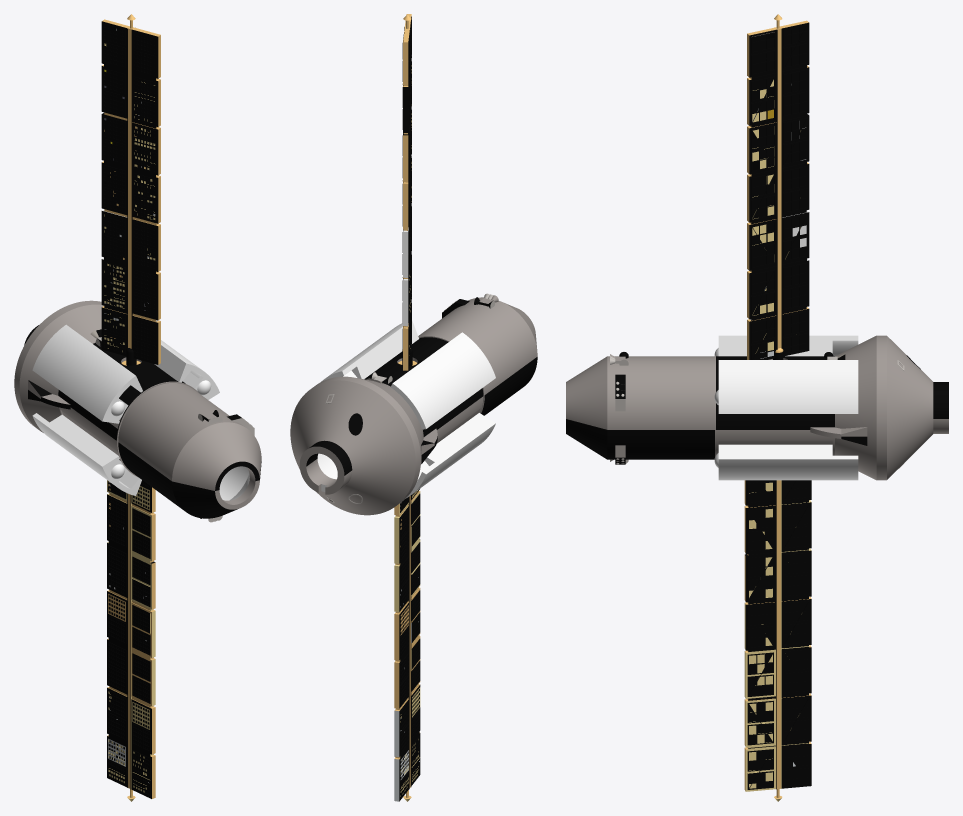
3 renders of one model, left to right at view 1: azimuth 30°, elevation 25°; view 2: azimuth 150°, elevation 25°; view 3: azimuth 270°, elevation 25°, orthographic.
Visible parts, largest first — view 1: Subensamble N52 ISS-1/Subensamble N51 ISS-1/Subensamble N48  (×7); view 2: Subensamble N52 ISS-1/Subensamble N51 ISS-1/Subensamble N48  (×7); view 3: Subensamble N52 ISS-1/Subensamble N51 ISS-1/Subensamble N48  (×7).
Boxes of the visible parts, box(x1,y1,x2,y2) form: Subensamble N52 ISS-1/Subensamble N51 ISS-1/Subensamble N48  (×7): box(14, 14, 261, 801); Subensamble N52 ISS-1/Subensamble N51 ISS-1/Subensamble N48  (×7): box(290, 14, 537, 801); Subensamble N52 ISS-1/Subensamble N51 ISS-1/Subensamble N48  (×7): box(566, 14, 948, 801).
Bounding box in the file's own units: 280 × 1680 × 740.
